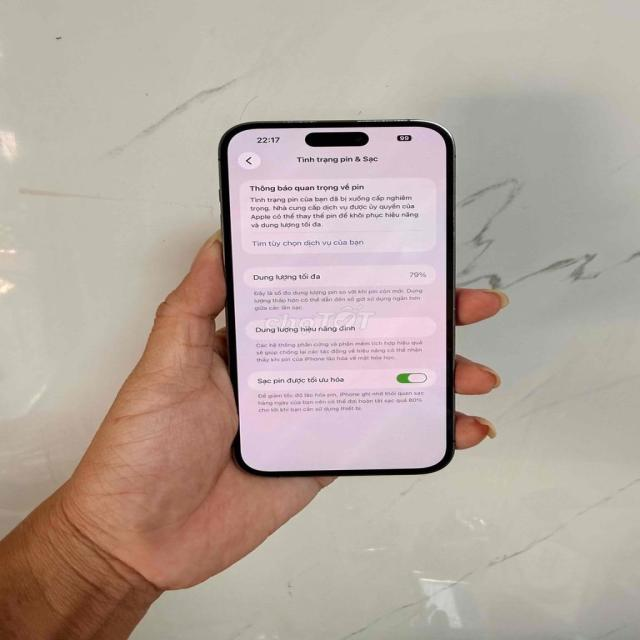gen_14: (214, 119, 465, 474)
